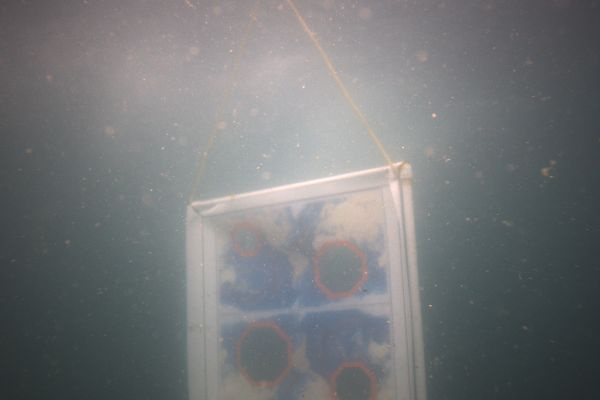torpille: (187, 162, 427, 400)
torpille_target: (236, 320, 292, 386), (314, 241, 366, 297), (330, 362, 377, 400), (230, 224, 260, 256)
